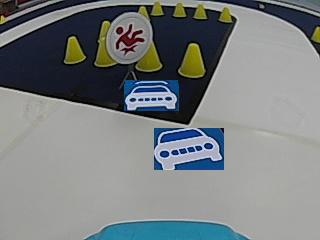cone: (179, 42, 205, 78), (137, 45, 163, 73), (63, 35, 86, 65), (94, 42, 115, 67), (193, 3, 207, 19), (172, 1, 186, 17), (150, 0, 164, 16), (219, 6, 232, 23), (137, 5, 149, 21)
tumble: (112, 18, 147, 56)
